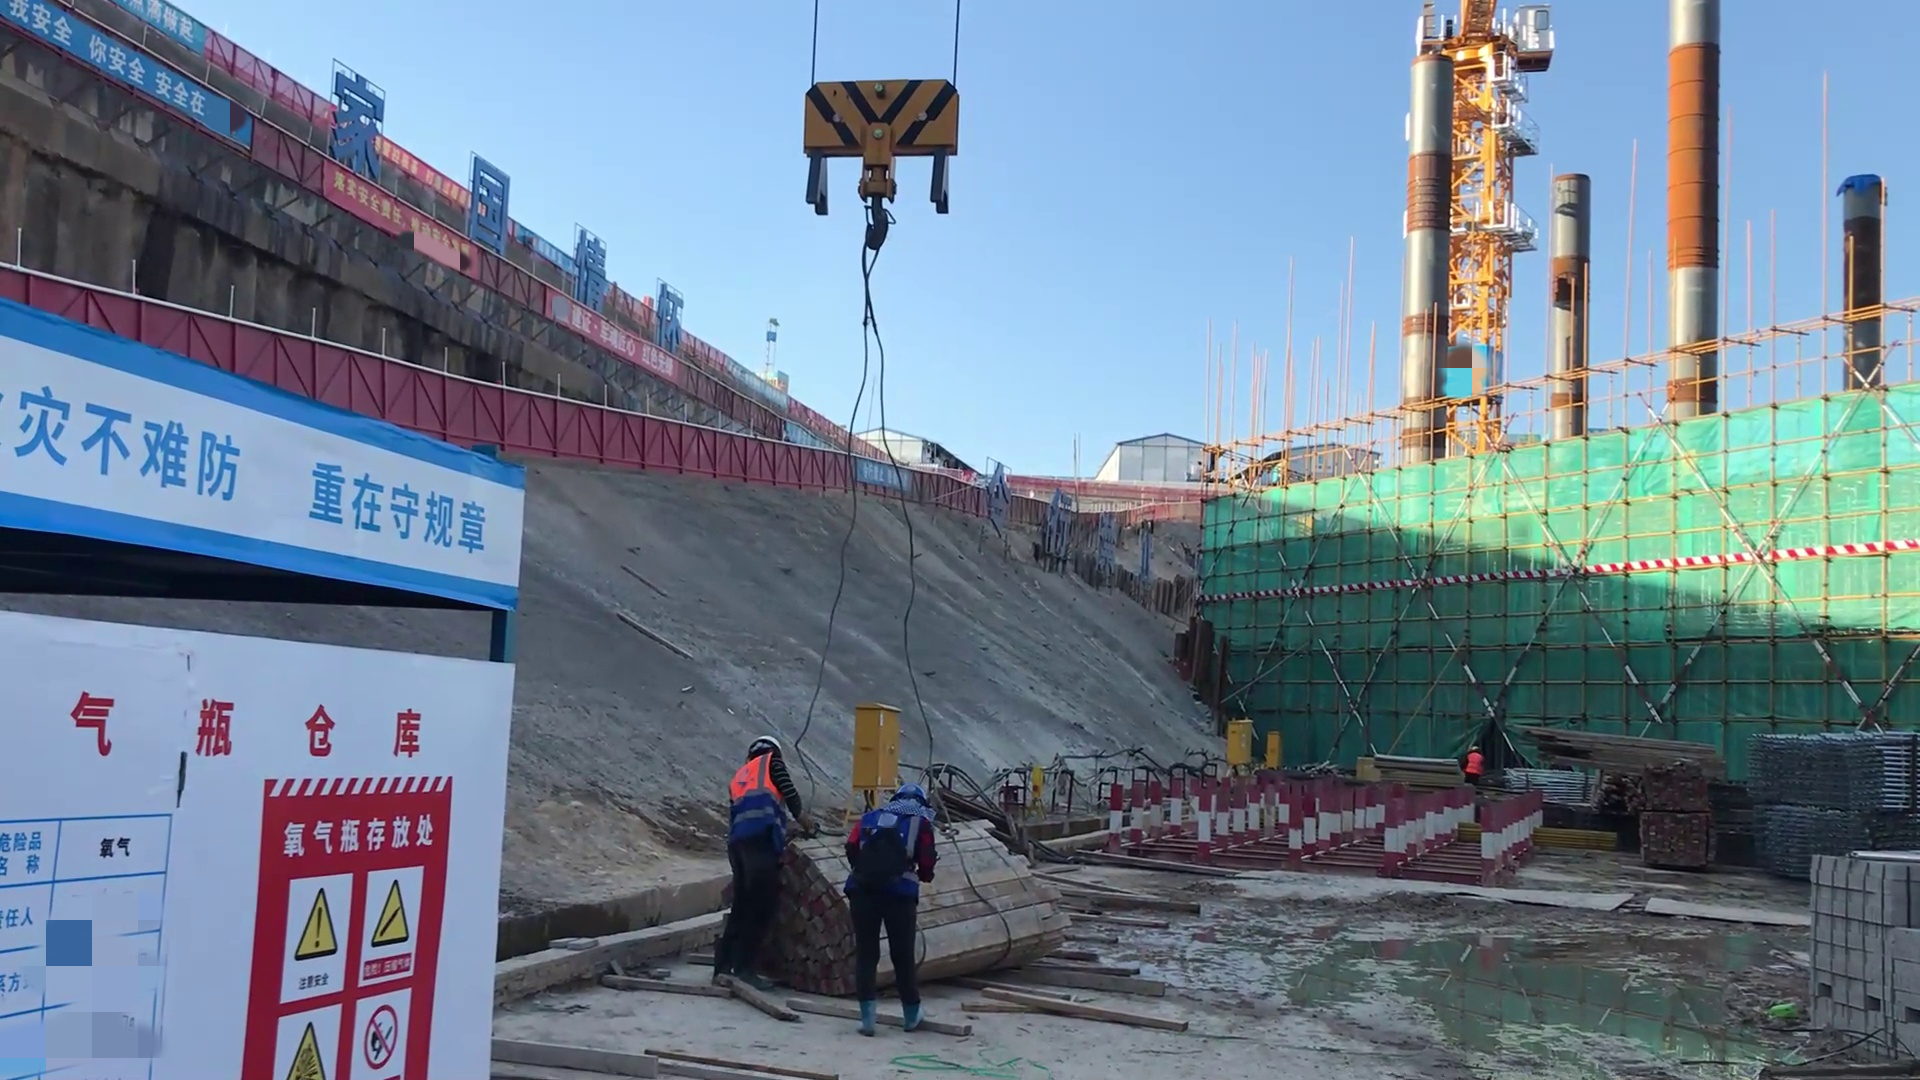brick: (1775, 842, 1920, 1045)
ebox: (847, 697, 900, 788), (1224, 710, 1250, 762), (1264, 726, 1282, 769)
fence: (514, 396, 721, 475), (718, 431, 855, 496)
helmet: (891, 779, 930, 809)
hook: (800, 70, 962, 212)
person: (838, 782, 938, 1029), (715, 736, 794, 978), (1452, 745, 1486, 788)
scaffold: (1743, 708, 1920, 833)
slogan: (1, 390, 504, 579), (249, 822, 438, 1080), (1, 1, 247, 197), (300, 157, 497, 287)
vest: (726, 754, 783, 810)
wood: (938, 816, 1082, 976), (1517, 716, 1717, 804)
